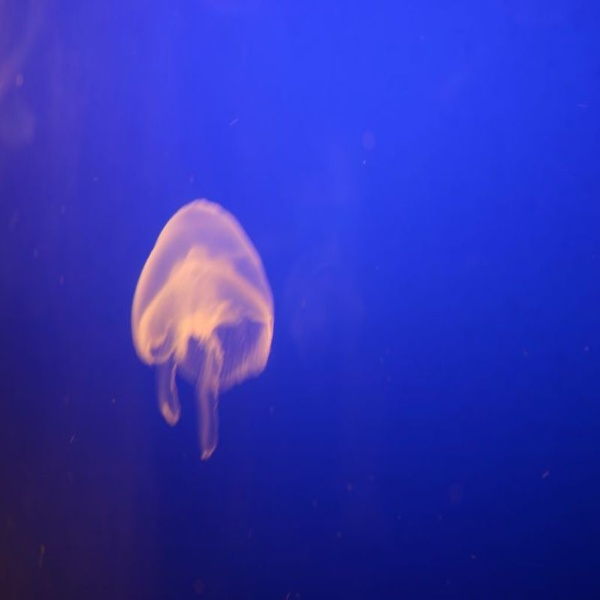Jellyfish: (126, 194, 276, 460)
